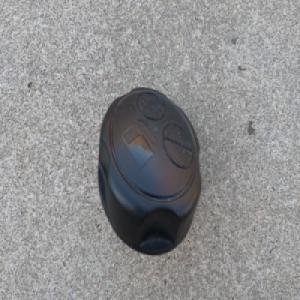FuelCap: (97, 84, 204, 256)
